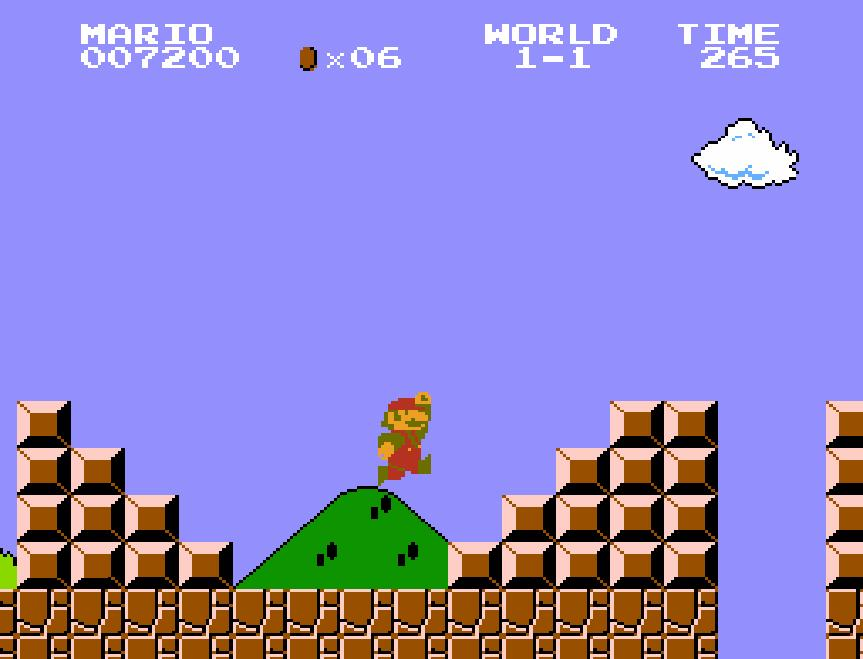big_mario: (376, 390, 434, 488)
